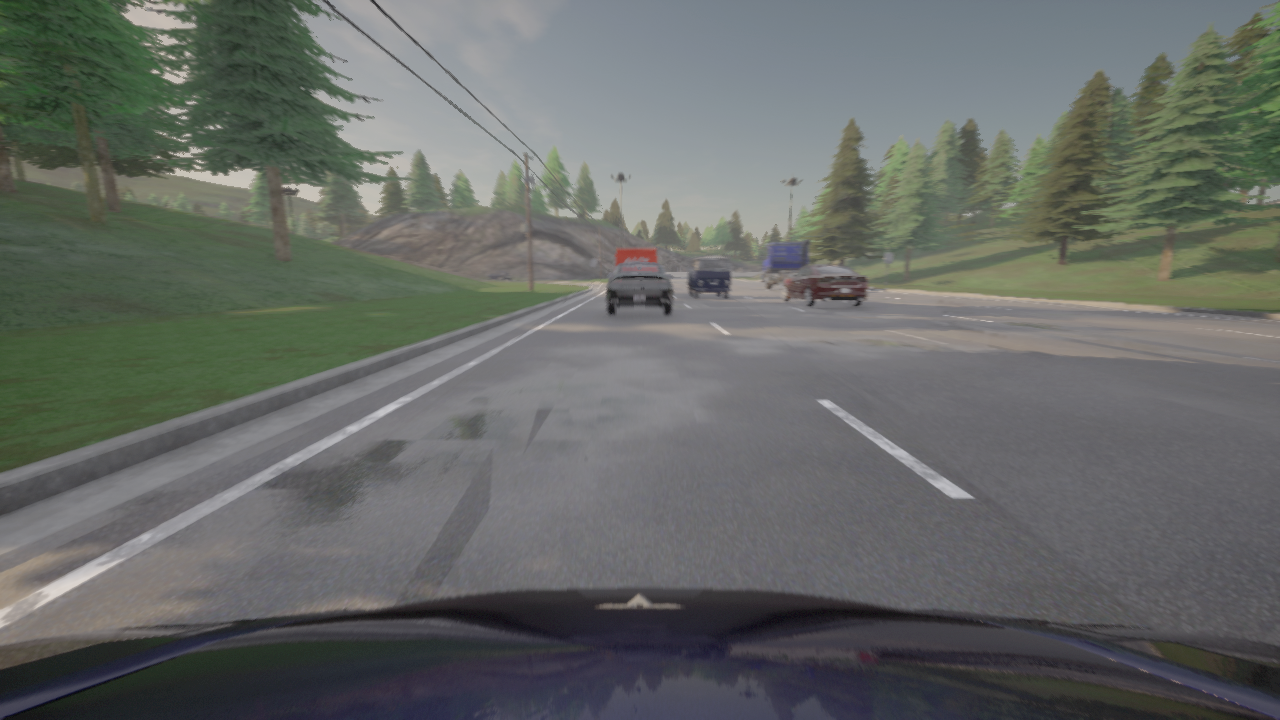cyclist: (0, 588, 1279, 719), (782, 264, 867, 306), (607, 262, 672, 315), (760, 240, 809, 291), (687, 256, 731, 297), (614, 248, 657, 271), (486, 270, 511, 281), (609, 272, 613, 274)
